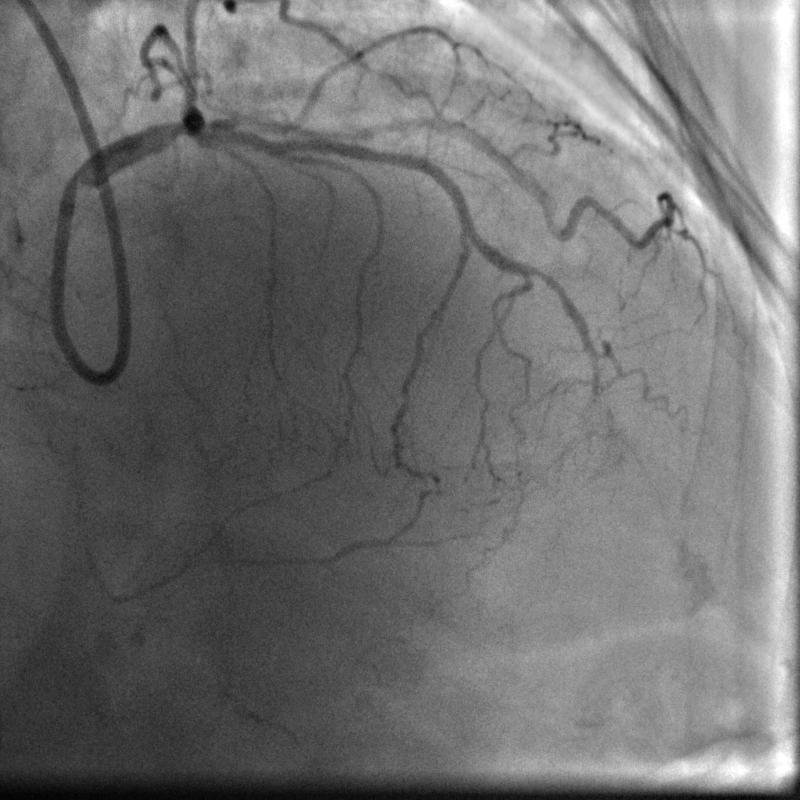Stenosis: (163, 104, 190, 152)
